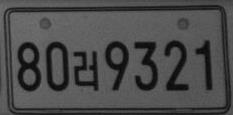0: (45, 40, 70, 92)
1: (193, 39, 219, 90)
2: (163, 39, 188, 91)
3: (133, 40, 159, 91)
8: (16, 40, 42, 92)
9: (104, 40, 130, 91)
러: (72, 50, 99, 91)
